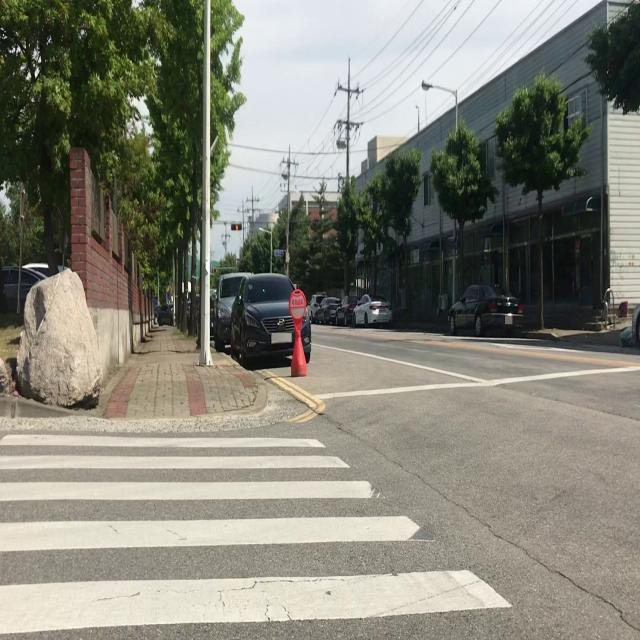횡단보도: (0, 429, 515, 640)
